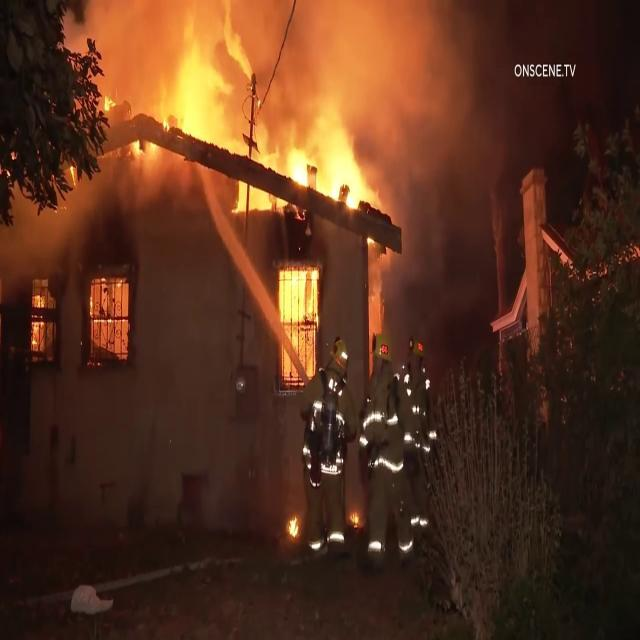Fire: (284, 110, 396, 228), (128, 62, 233, 154), (278, 270, 332, 408), (92, 287, 132, 359), (32, 288, 64, 346), (284, 504, 296, 542), (353, 511, 363, 532)
Smoke: (414, 76, 489, 282), (378, 6, 576, 62), (280, 12, 354, 78)
